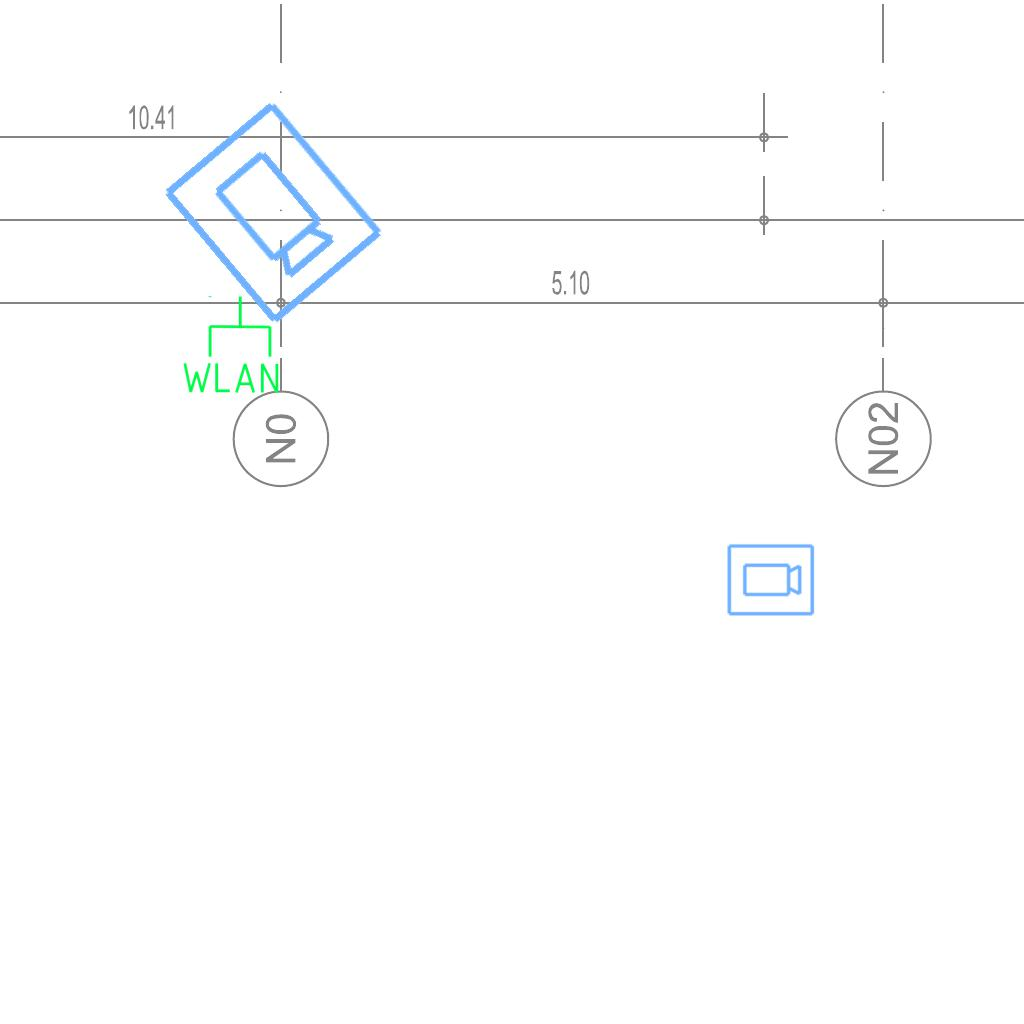KFO_Kamera_mit_Festobjektiv: (154, 93, 390, 333), (725, 542, 816, 619)
WLAN: (178, 293, 283, 397)
